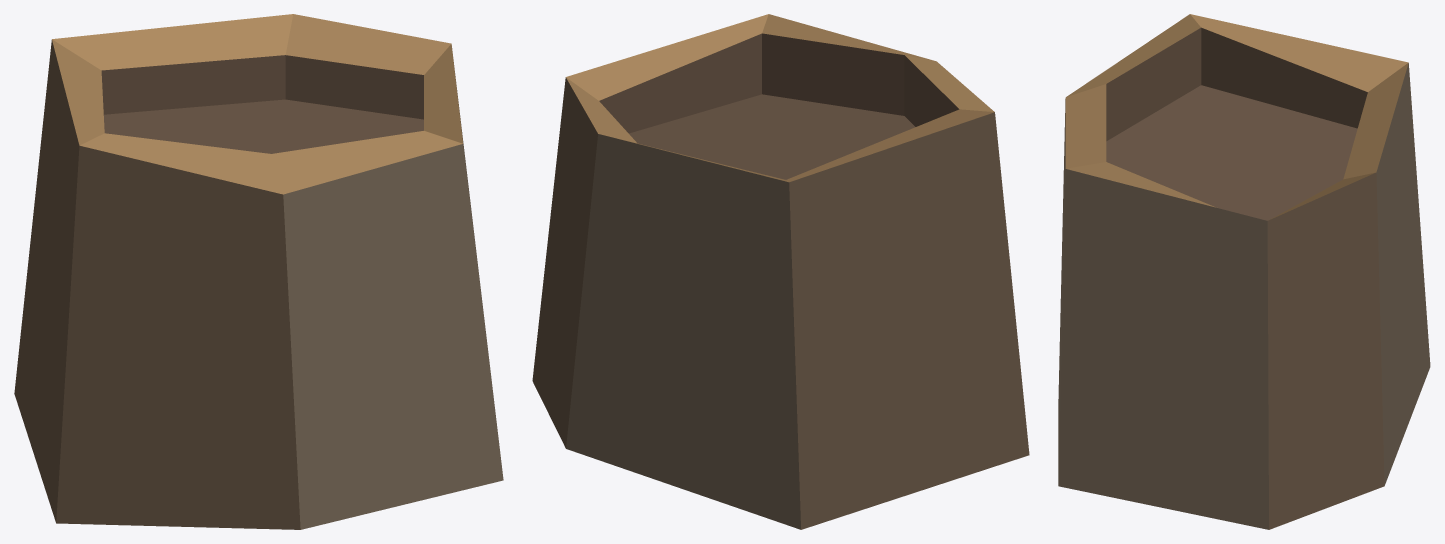
The model's file is stump.fbx.
The picture shows the model from 3 angles, left to right: view 1: azimuth 30°, elevation 25°; view 2: azimuth 150°, elevation 25°; view 3: azimuth 270°, elevation 25°; orthographic projection. The views are drawn at different scales.
Parts seen in each view (by area): view 1: stump; view 2: stump; view 3: stump.
Boxes of the visible parts, box(x1,y1,x2,y2) form: stump: box(14, 14, 503, 529); stump: box(532, 14, 1029, 529); stump: box(1058, 14, 1430, 529).
Size of the model in its own units: 40.29 by 29.24 by 30.62.
